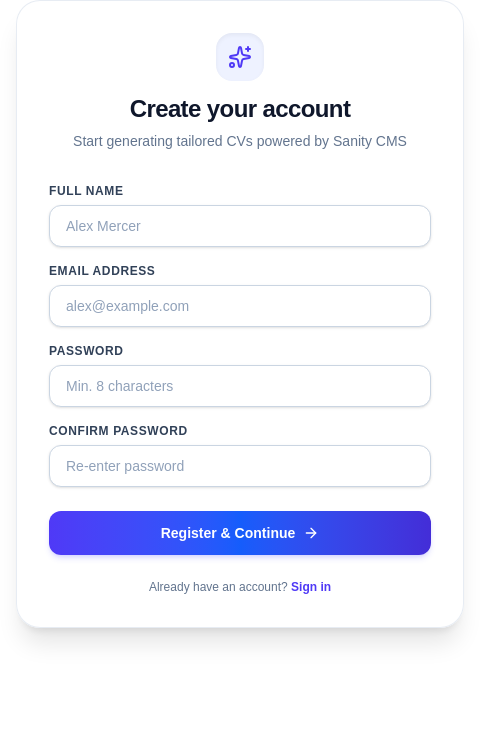
it: RegisterForm (Ticket 03) › shows validation error when name is empty
What coordinates should you click on to do the following:
click the button with test id "register-submit-btn"
I would click on:
 (240, 533)
Its box is [49,511,431,555].
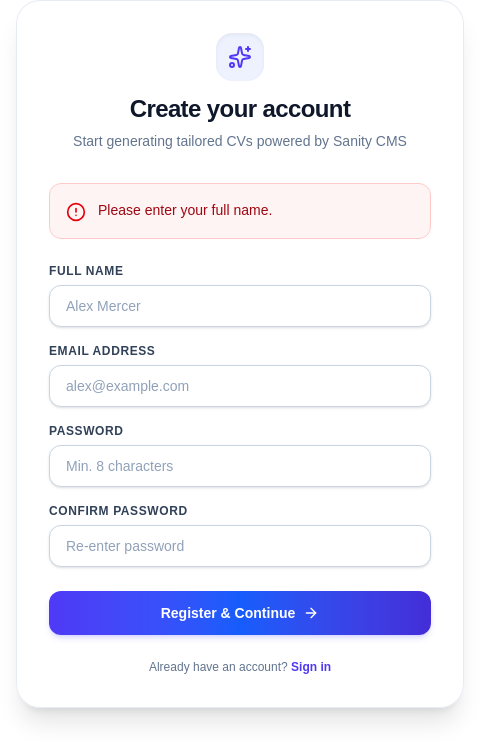
Check: the text "Please enter your full name." is shown, box [98,202,272,218]
